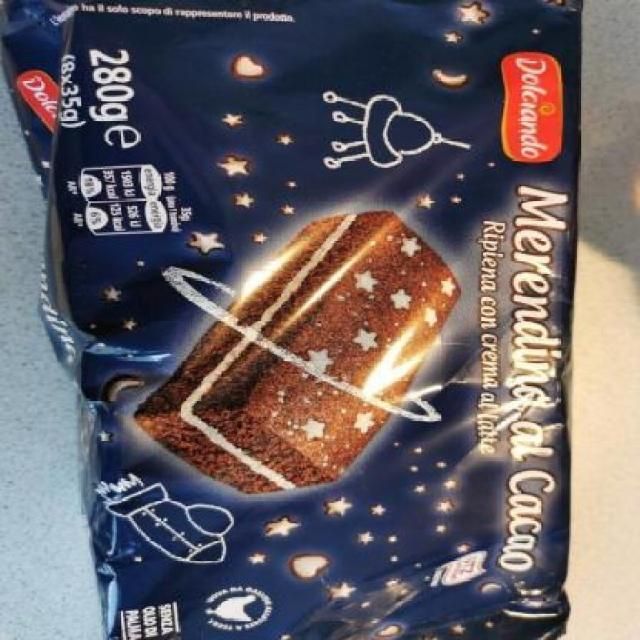Merendine: (6, 0, 580, 640)
Merendine packaged: (142, 208, 475, 507)
